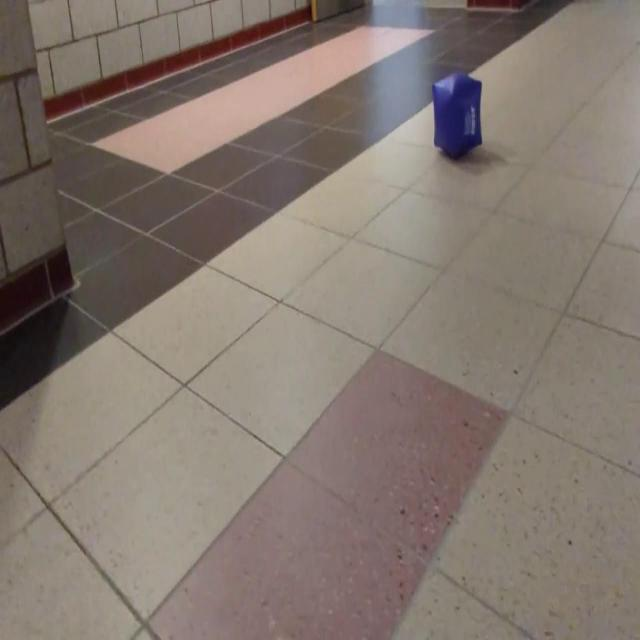frc_cube: (431, 74, 482, 159)
